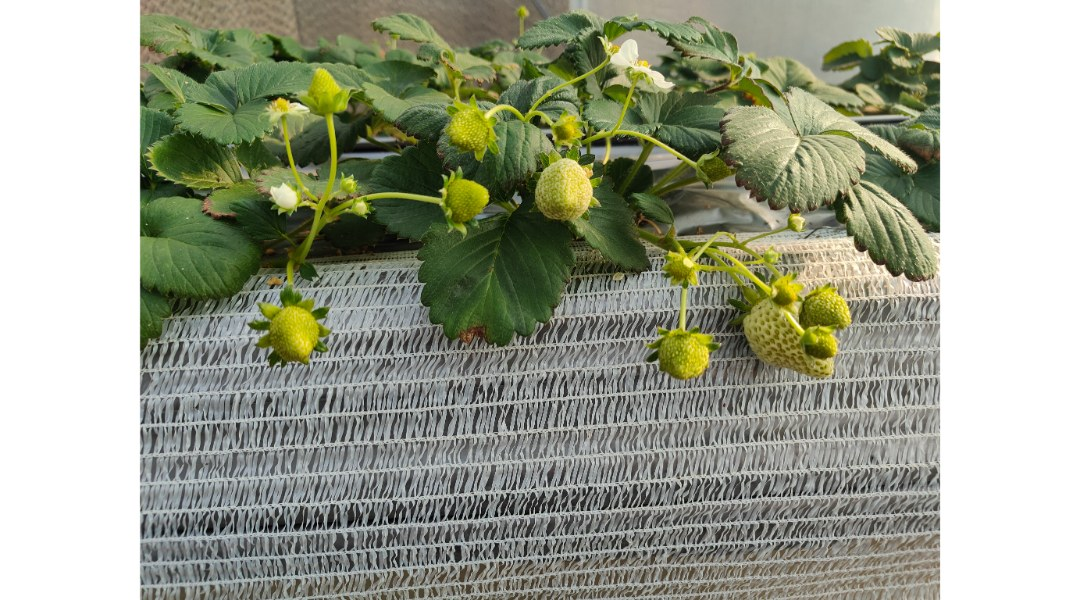berry: (730, 290, 841, 387), (254, 290, 340, 377), (533, 155, 596, 233), (429, 167, 494, 239), (654, 318, 719, 384), (442, 103, 505, 163), (801, 279, 856, 333), (295, 70, 354, 118), (789, 322, 842, 362), (656, 251, 703, 290)
flower: (617, 35, 678, 94), (266, 179, 303, 225), (261, 97, 300, 121)
strain: (627, 121, 692, 172), (528, 63, 605, 106), (372, 189, 442, 208), (321, 123, 340, 192), (279, 133, 308, 177)
